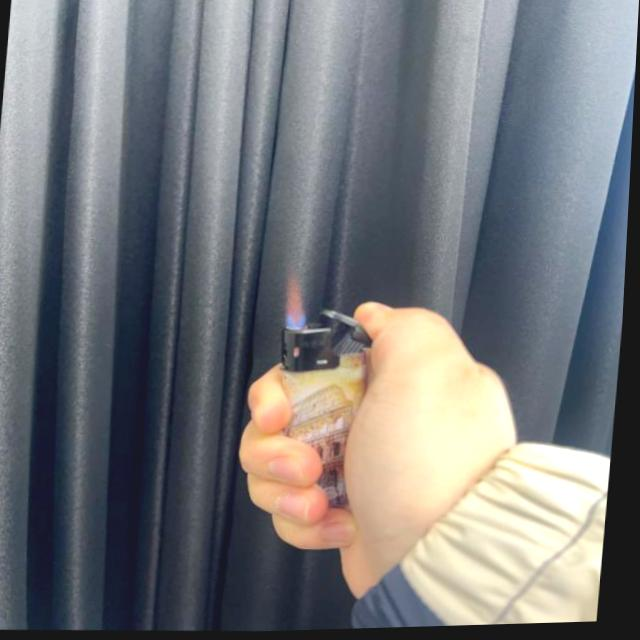Fire: (284, 271, 316, 334)
